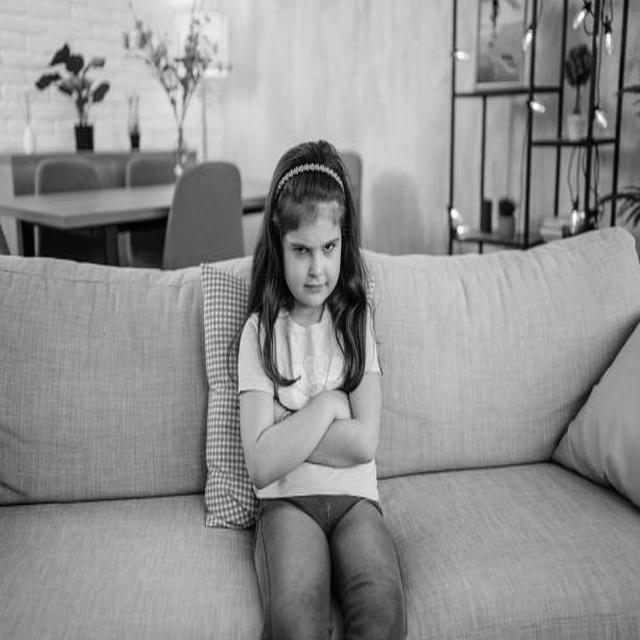Angry: (283, 207, 342, 305)
